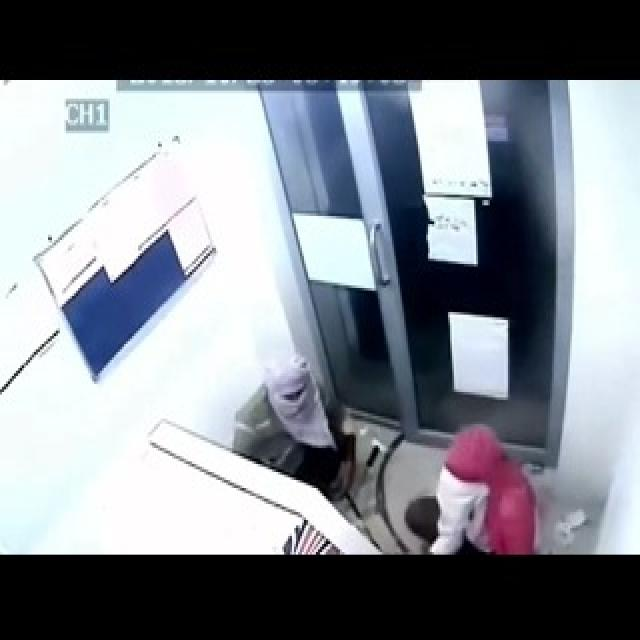thief: (408, 417, 542, 557), (240, 342, 362, 485)
